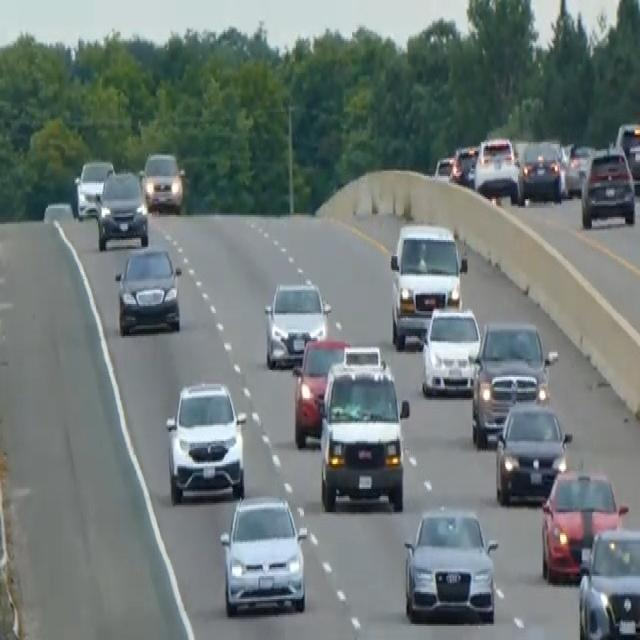car: (402, 503, 498, 624), (470, 318, 557, 446), (218, 492, 307, 617), (540, 466, 628, 583), (164, 379, 247, 503), (494, 400, 572, 505), (576, 524, 639, 638), (291, 334, 349, 448), (114, 244, 182, 336), (263, 277, 330, 368), (419, 303, 481, 397), (580, 146, 635, 229), (96, 167, 148, 249), (473, 133, 521, 203), (518, 137, 563, 203), (141, 150, 184, 212), (72, 156, 114, 218), (615, 119, 639, 190), (564, 140, 594, 196), (448, 142, 478, 187), (433, 153, 454, 181)
minivan: (317, 345, 410, 512), (388, 219, 467, 350)
